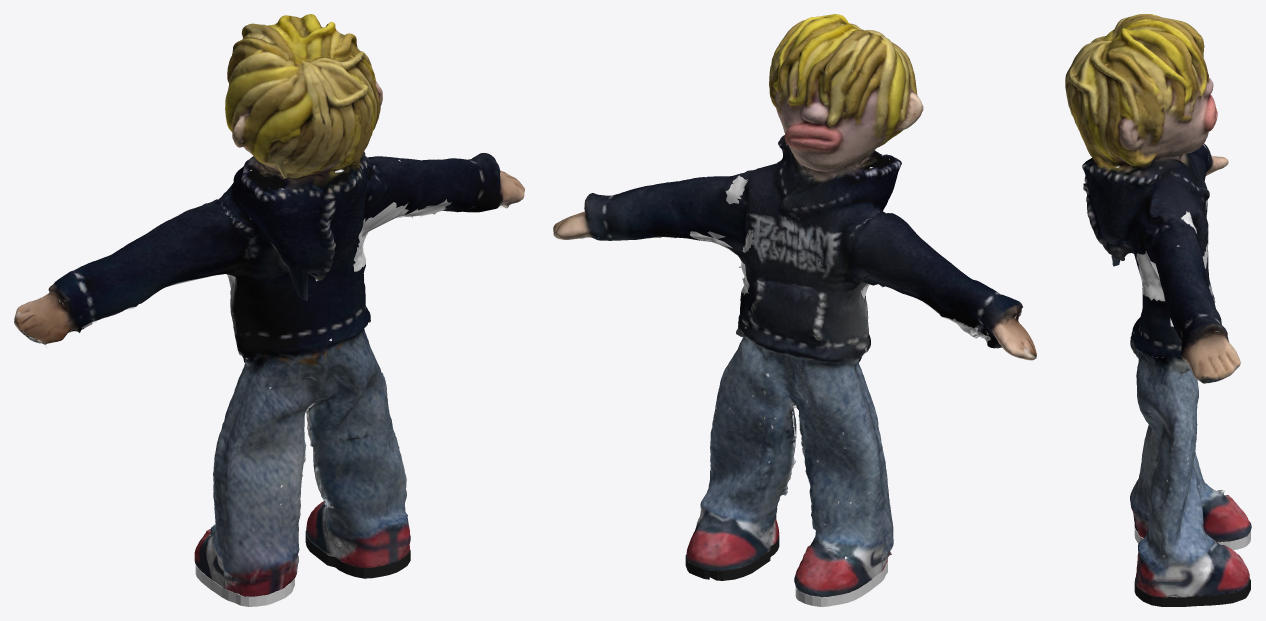
The model's file is skeeterblend.fbx.
3 renders of one model, left to right at view 1: azimuth 30°, elevation 25°; view 2: azimuth 150°, elevation 25°; view 3: azimuth 270°, elevation 25°, orthographic. The views are drawn at different scales.
Parts seen in each view (by area): view 1: Cylinder.001; view 2: Cylinder.001; view 3: Cylinder.001.
Boxes of the visible parts, x1=… form: Cylinder.001: x1=14, y1=14, x2=524, y2=606; Cylinder.001: x1=553, y1=14, x2=1036, y2=606; Cylinder.001: x1=1065, y1=14, x2=1251, y2=606.
Bounding box in the file's own units: 927 × 997 × 318.
